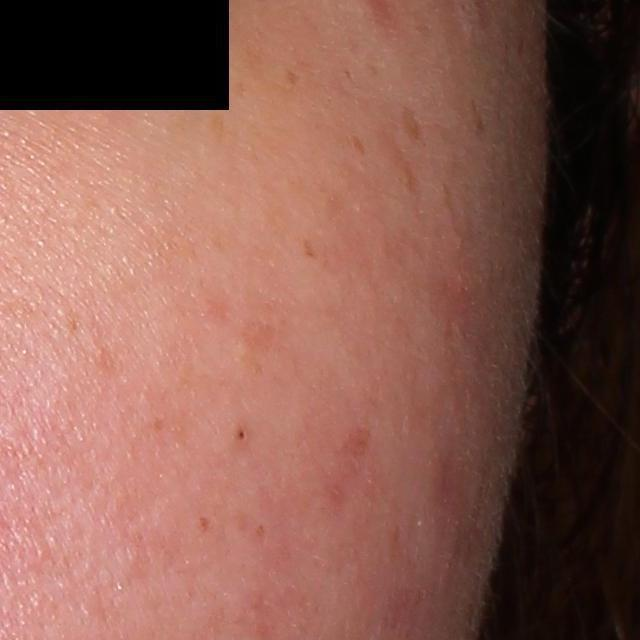comedo: (229, 422, 253, 446)
melasma: (402, 100, 424, 143), (209, 109, 227, 146), (302, 233, 321, 260), (346, 132, 366, 155), (285, 66, 302, 89), (150, 412, 166, 430), (199, 514, 212, 535)
